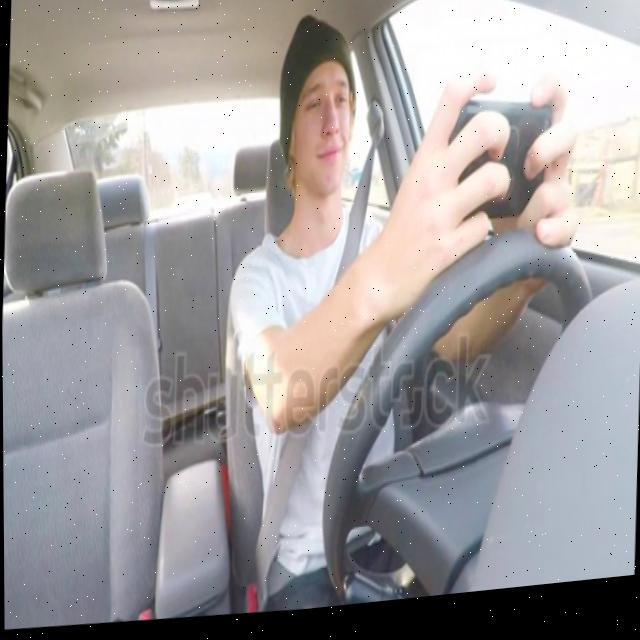PhoneCall: (445, 90, 554, 232)
